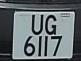1: (36, 36, 44, 59), (43, 36, 51, 58)
6: (23, 36, 37, 59)
7: (49, 35, 65, 58)
G: (44, 14, 58, 36)
U: (29, 13, 45, 37)
